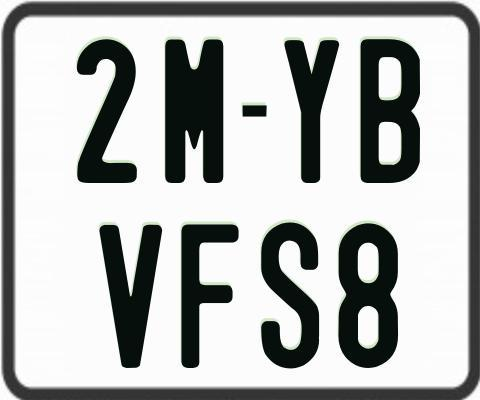2: (74, 38, 134, 182)
8: (336, 222, 402, 371)
B: (359, 36, 422, 185)
F: (181, 222, 245, 369)
M: (165, 36, 226, 185)
S: (259, 222, 319, 371)
V: (96, 225, 163, 371)
Y: (283, 39, 338, 187)
